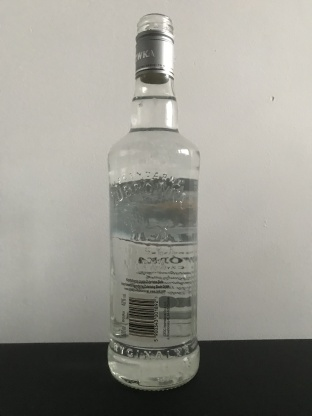nakretka: (133, 11, 175, 84)
